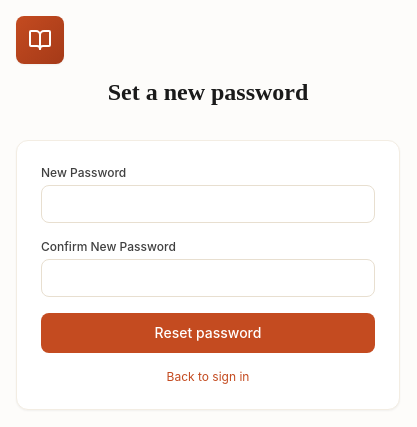
it: ResetPasswordPage（#19） › 重置成功后用 replace 跳转，不把一次性令牌页留在历史里
Type "passw0rd" into the 1st password field at [208, 204], box [41,185,375,223]
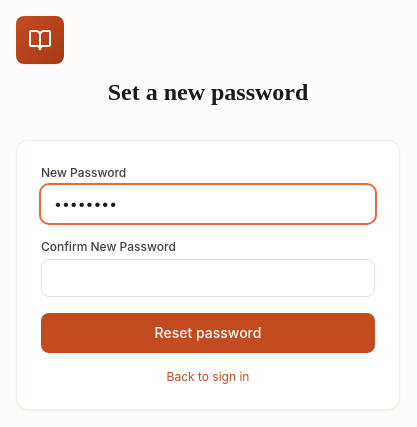
Type "passw0rd" into the password field below "Confirm New Password" at [208, 278], box [41,259,375,297]
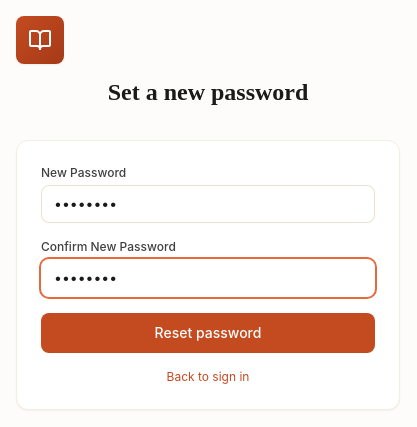
Click the button "Reset password" at [208, 333], box [41,313,375,353]
Wait 3000 ms
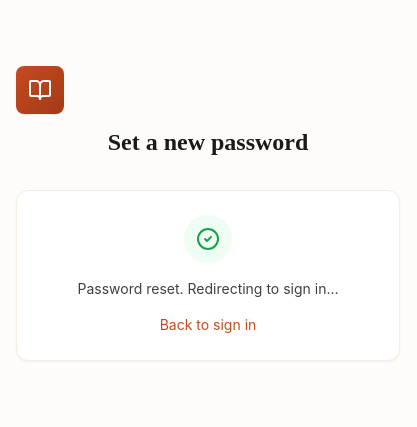
Expected: the text "Password reset. Redirecting to sign in…" is shown, [78,280,338,296]
